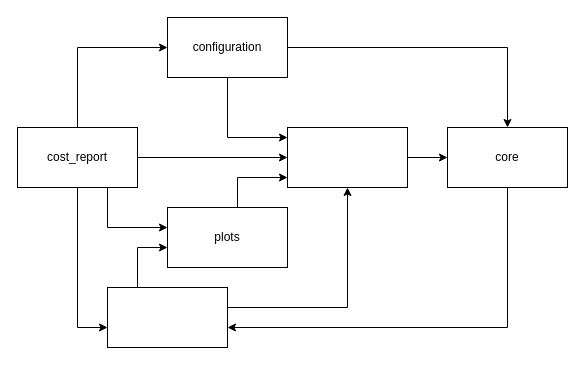
Some shapes in this 585 by 365 pixel diagram are drawn without their labels. The shapes that lost their labels are listed below. From the top down, each one's centre as x and y in pixels, then its label:
At [347,157]: "dike".
At [167,317]: "dike_reinforcements".
